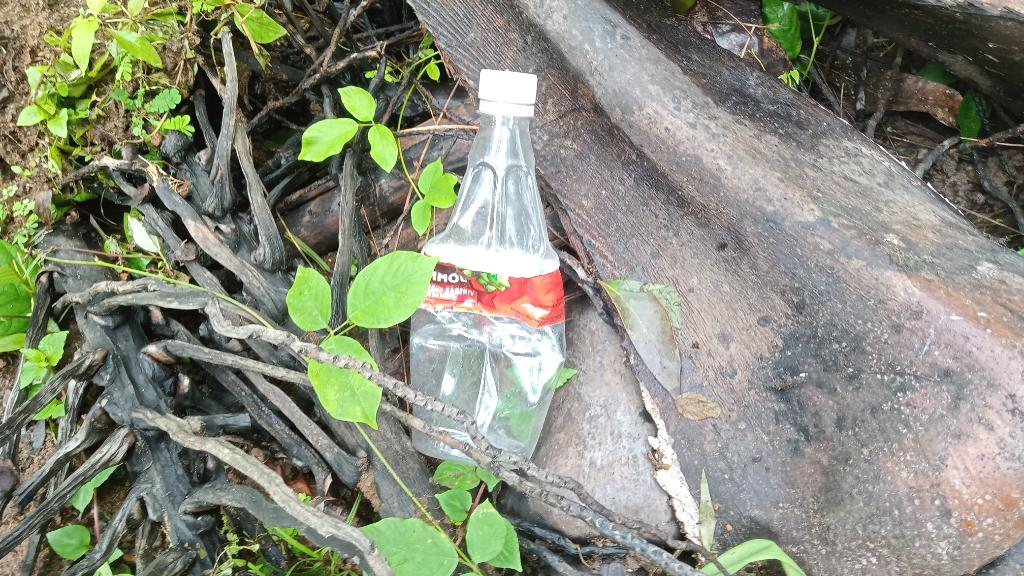garbage: (379, 62, 573, 477)
